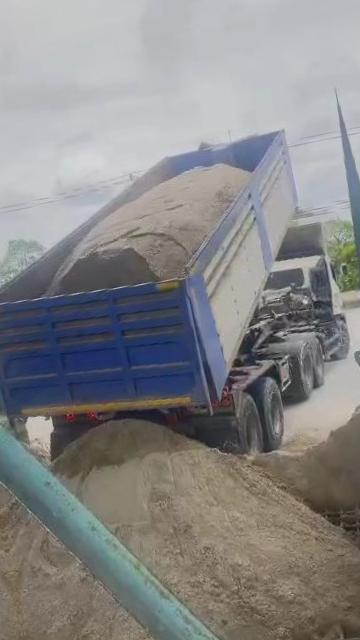sand: (55, 420, 360, 640), (47, 164, 250, 294), (0, 505, 177, 640), (254, 397, 360, 512), (23, 439, 49, 465)
